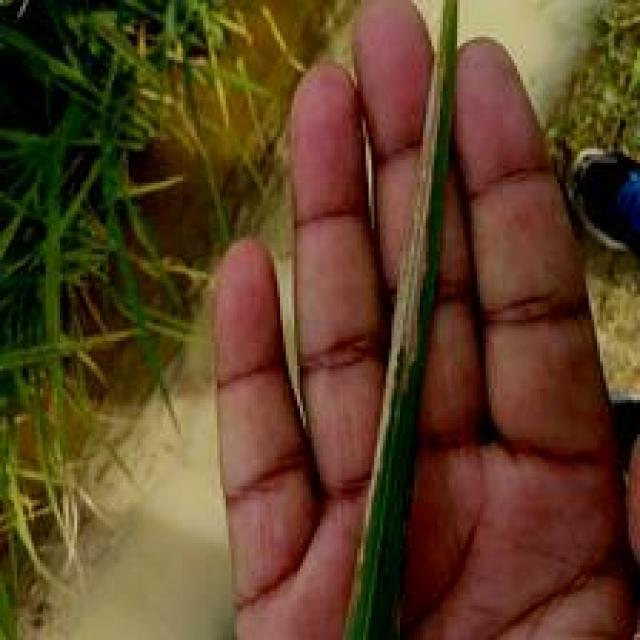Rice_Bacterial_Blight: (363, 57, 423, 552)
